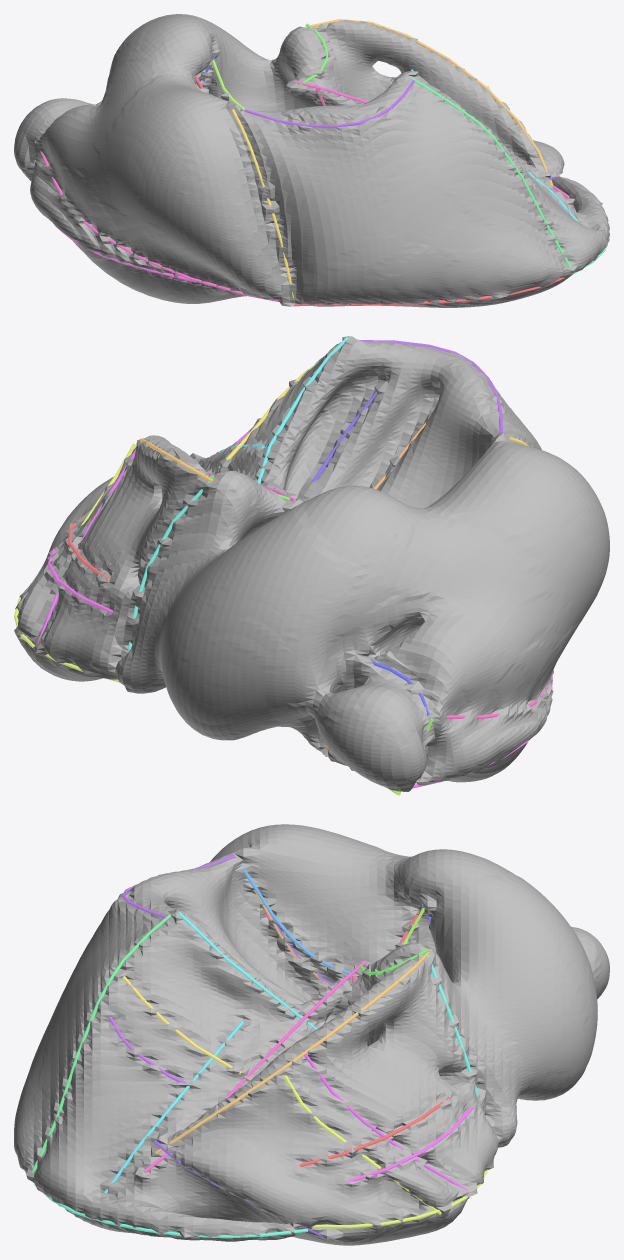
File: author1_building.gltf
The picture shows the model from 3 angles, top to bottom: view 1: azimuth 30°, elevation 25°; view 2: azimuth 150°, elevation 25°; view 3: azimuth 270°, elevation 25°; orthographic projection. The views are drawn at different scales.
Size of the model in its own units: 0.7073 by 0.368 by 0.7094.
